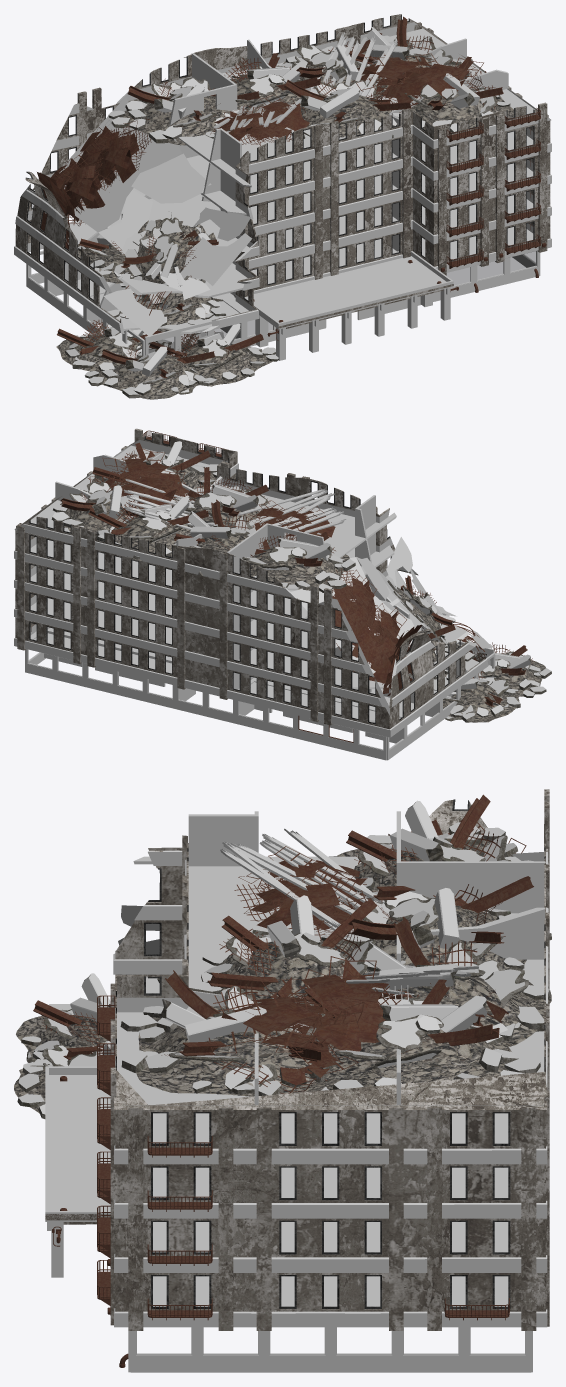
File: Builing_05_MSH.fbx
3 renders of one model, top to bottom at view 1: azimuth 30°, elevation 25°; view 2: azimuth 150°, elevation 25°; view 3: azimuth 270°, elevation 25°, orthographic. The views are drawn at different scales.
Visible parts, largest first — view 1: BldgMedE_Concrete_Geo, BldgMedE_ConcDirty_Geo, BldgMedE_RustedMetal_Geo, BldgMedE_Debris_Geo, BldgMedE_ConcBroken_Geo, BldgMedE_Mullion_Geo, BldgMedE_WoodBeams_Geo, BldgMedE_Glass_Geo; view 2: BldgMedE_Concrete_Geo, BldgMedE_ConcDirty_Geo, BldgMedE_RustedMetal_Geo, BldgMedE_Debris_Geo, BldgMedE_Mullion_Geo, BldgMedE_ConcBroken_Geo, BldgMedE_WoodBeams_Geo; view 3: BldgMedE_Concrete_Geo, BldgMedE_ConcDirty_Geo, BldgMedE_RustedMetal_Geo, BldgMedE_Debris_Geo, BldgMedE_ConcBroken_Geo, BldgMedE_Mullion_Geo, BldgMedE_WoodBeams_Geo.
Part boxes in pixels (<box>): BldgMedE_Concrete_Geo: <box>14,22,551,394</box>; BldgMedE_ConcDirty_Geo: <box>15,14,550,328</box>; BldgMedE_RustedMetal_Geo: <box>33,16,546,383</box>; BldgMedE_Debris_Geo: <box>56,42,513,399</box>; BldgMedE_ConcBroken_Geo: <box>65,27,510,398</box>; BldgMedE_Mullion_Geo: <box>26,14,534,301</box>; BldgMedE_WoodBeams_Geo: <box>213,32,397,130</box>; BldgMedE_Glass_Geo: <box>149,251,535,354</box>; BldgMedE_Concrete_Geo: <box>14,440,551,760</box>; BldgMedE_ConcDirty_Geo: <box>15,428,485,729</box>; BldgMedE_RustedMetal_Geo: <box>31,430,534,742</box>; BldgMedE_Debris_Geo: <box>60,463,545,722</box>; BldgMedE_Mullion_Geo: <box>29,433,460,724</box>; BldgMedE_ConcBroken_Geo: <box>51,453,551,722</box>; BldgMedE_WoodBeams_Geo: <box>123,479,346,539</box>; BldgMedE_Concrete_Geo: <box>18,800,549,1372</box>; BldgMedE_ConcDirty_Geo: <box>45,789,549,1330</box>; BldgMedE_RustedMetal_Geo: <box>33,794,533,1367</box>; BldgMedE_Debris_Geo: <box>14,837,551,1113</box>; BldgMedE_ConcBroken_Geo: <box>17,802,551,1118</box>; BldgMedE_Mullion_Geo: <box>116,799,545,1308</box>; BldgMedE_WoodBeams_Geo: <box>220,828,478,994</box>.
Bounding box in the file's own units: 53.19 × 21.93 × 31.22.
